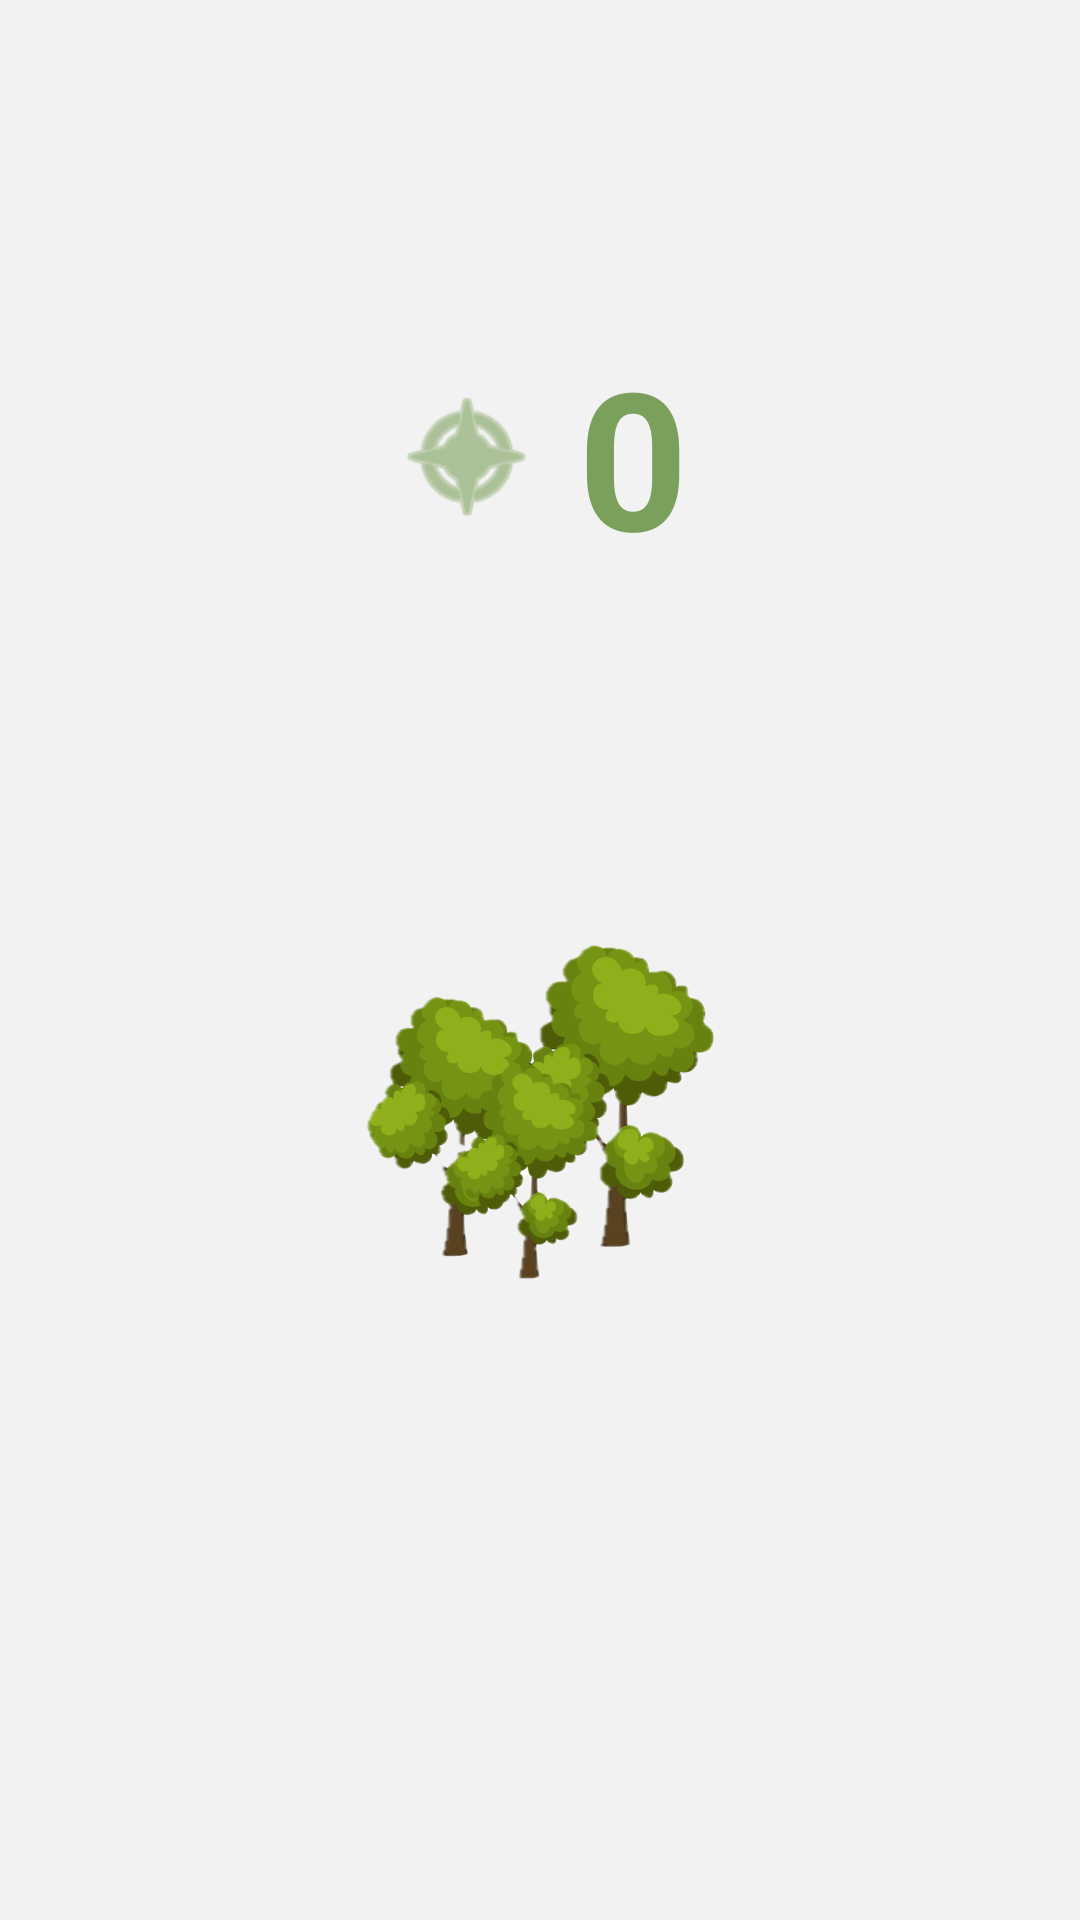

Screen size 1080x1920. Icon name, then its center in pixels as (x,y):
compass: (466,457)
